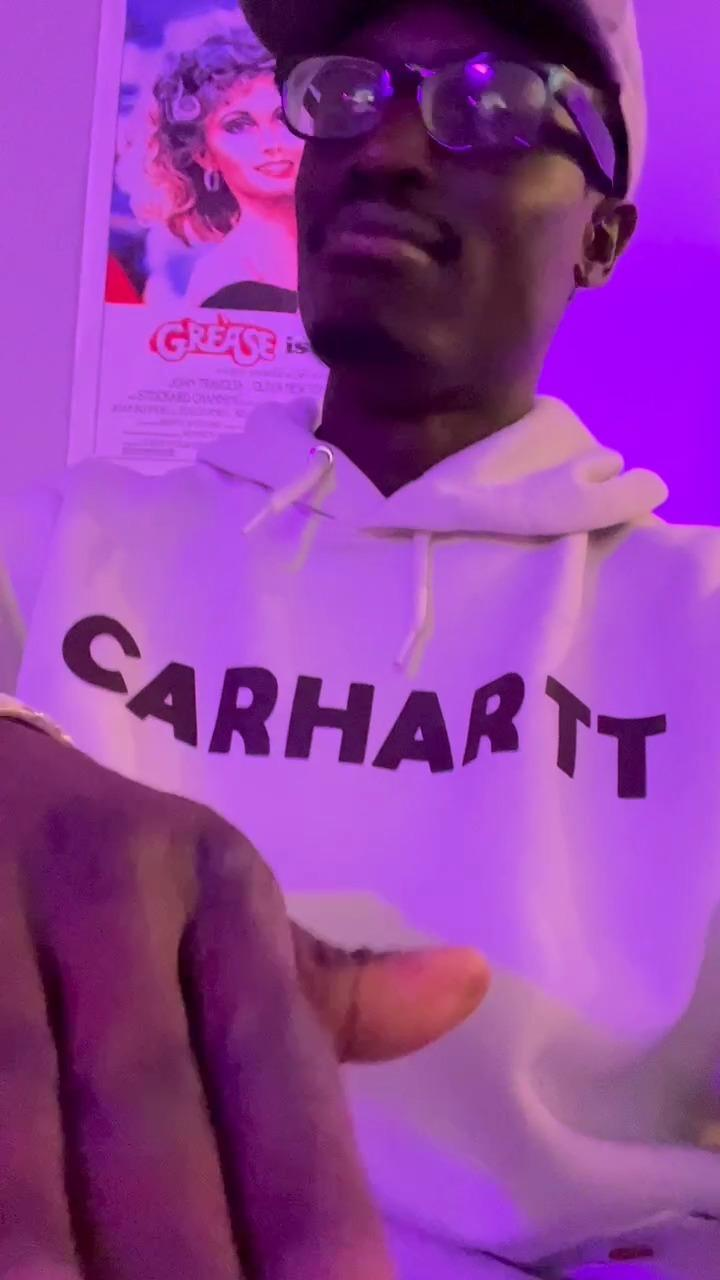Paper: (0, 714, 489, 1280)
